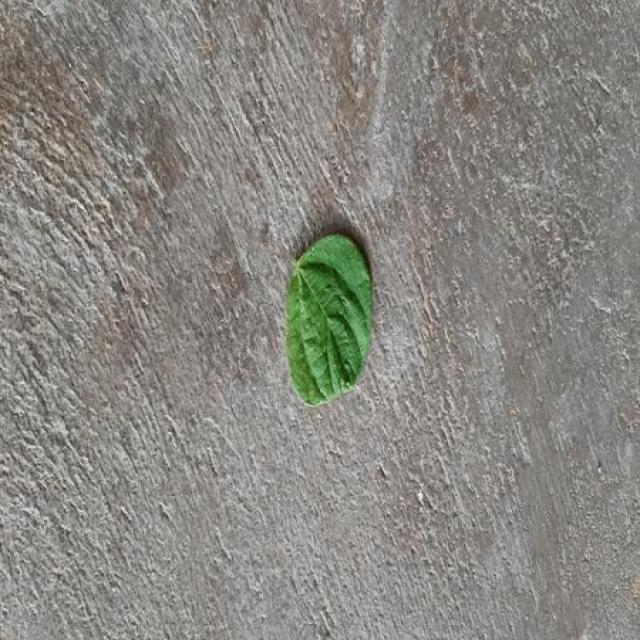beans: (285, 234, 373, 406)
